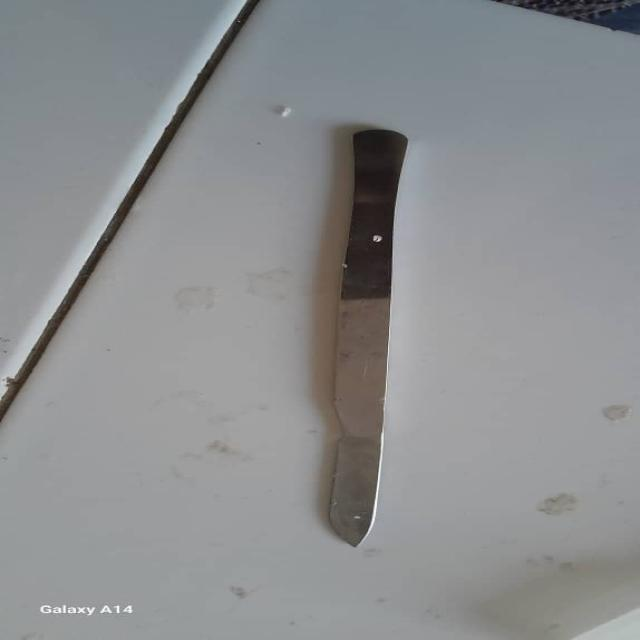Knife: (318, 121, 416, 548)
